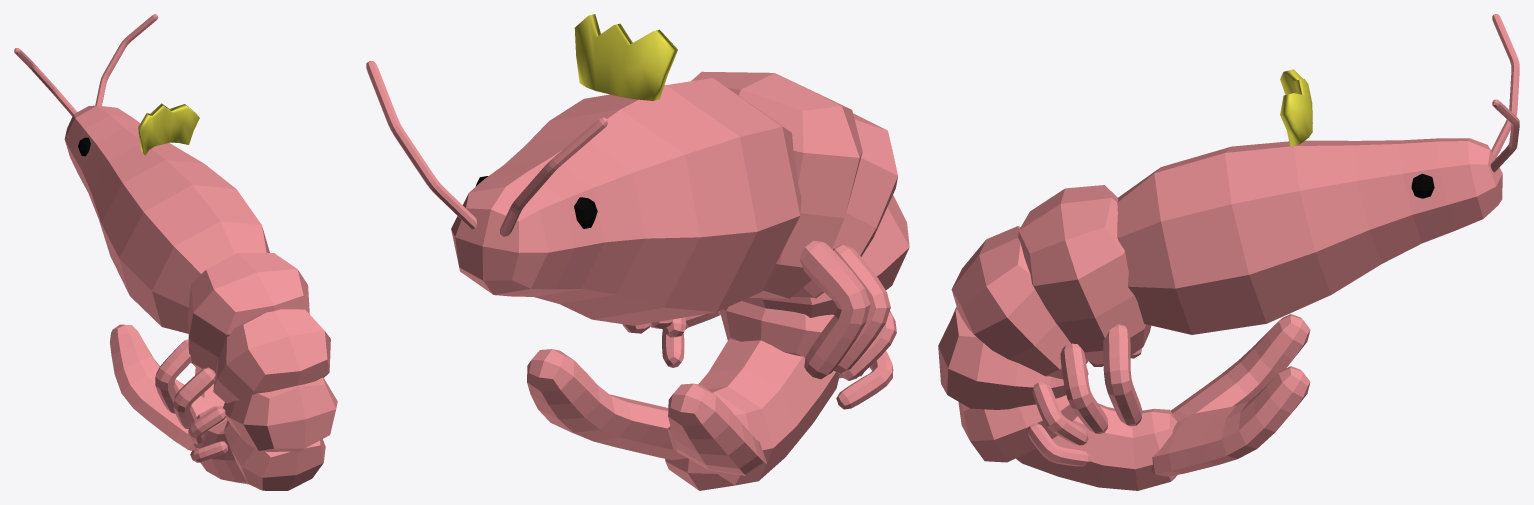
File: shrimp.fbx
3 renders of one model, left to right at view 1: azimuth 30°, elevation 25°; view 2: azimuth 150°, elevation 25°; view 3: azimuth 270°, elevation 25°, orthographic. The views are drawn at different scales.
Visible parts, largest first — view 1: Cube; view 2: Cube; view 3: Cube.
Part boxes in pixels (<box>): Cube: <box>14,14,337,490</box>; Cube: <box>366,14,909,490</box>; Cube: <box>938,14,1519,490</box>.
Size of the model in its own units: 211 by 438 by 535.
